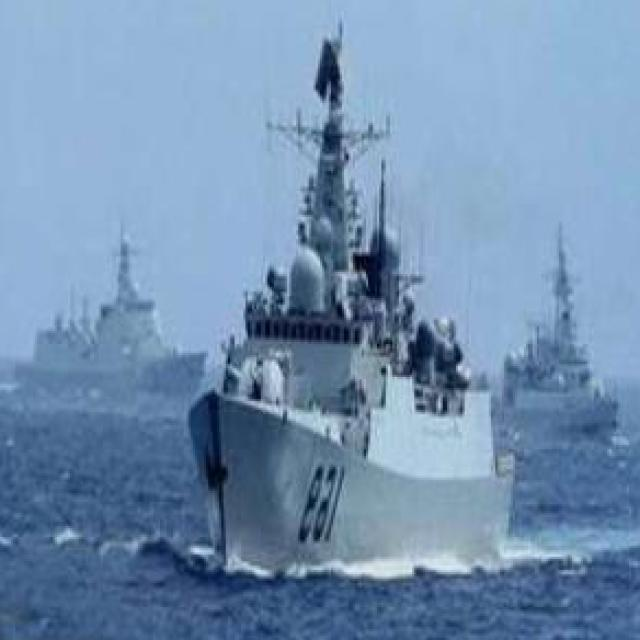navalvessels: (187, 28, 505, 606), (0, 204, 219, 399), (496, 218, 635, 445)
